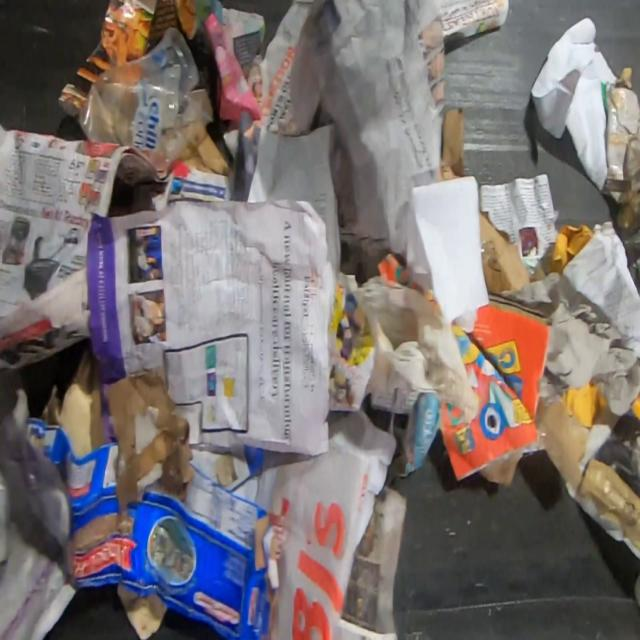cardboard: (19, 414, 290, 640), (602, 69, 640, 236), (538, 399, 588, 508), (482, 212, 530, 294)
rigid_plastic: (73, 25, 218, 174)
